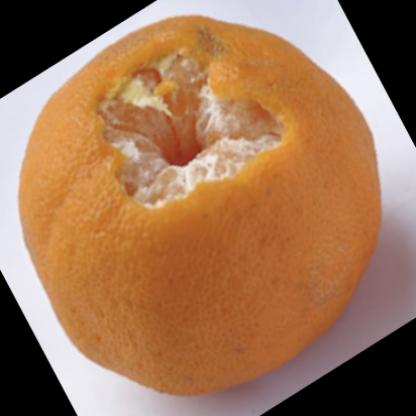fresh: (21, 14, 382, 403)
